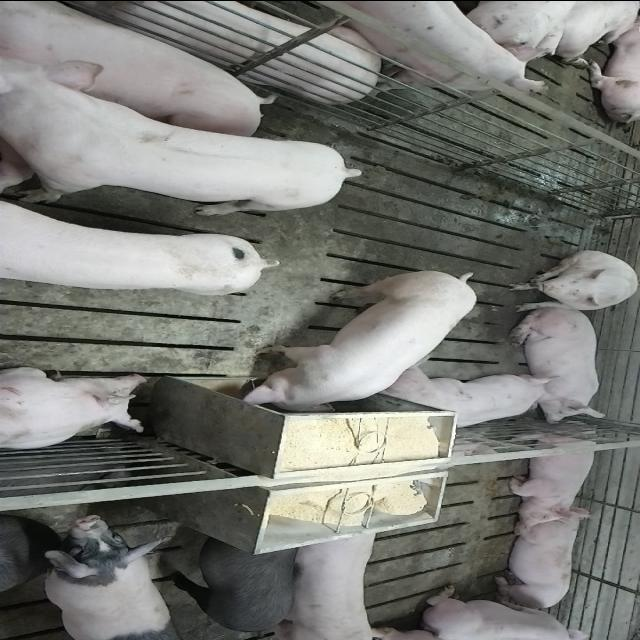Feeding: (238, 265, 478, 411)
Lateral_lying: (0, 0, 270, 137), (45, 0, 382, 101)
Sitting: (506, 250, 638, 311)
Standing: (3, 55, 365, 211), (0, 202, 274, 296), (309, 0, 550, 92), (38, 512, 174, 638), (168, 529, 304, 637), (269, 521, 383, 637), (1, 512, 30, 606)
Sternal_lying: (0, 366, 152, 450), (377, 369, 557, 432), (510, 311, 608, 421), (418, 584, 604, 638), (491, 511, 589, 611), (506, 426, 604, 524)
